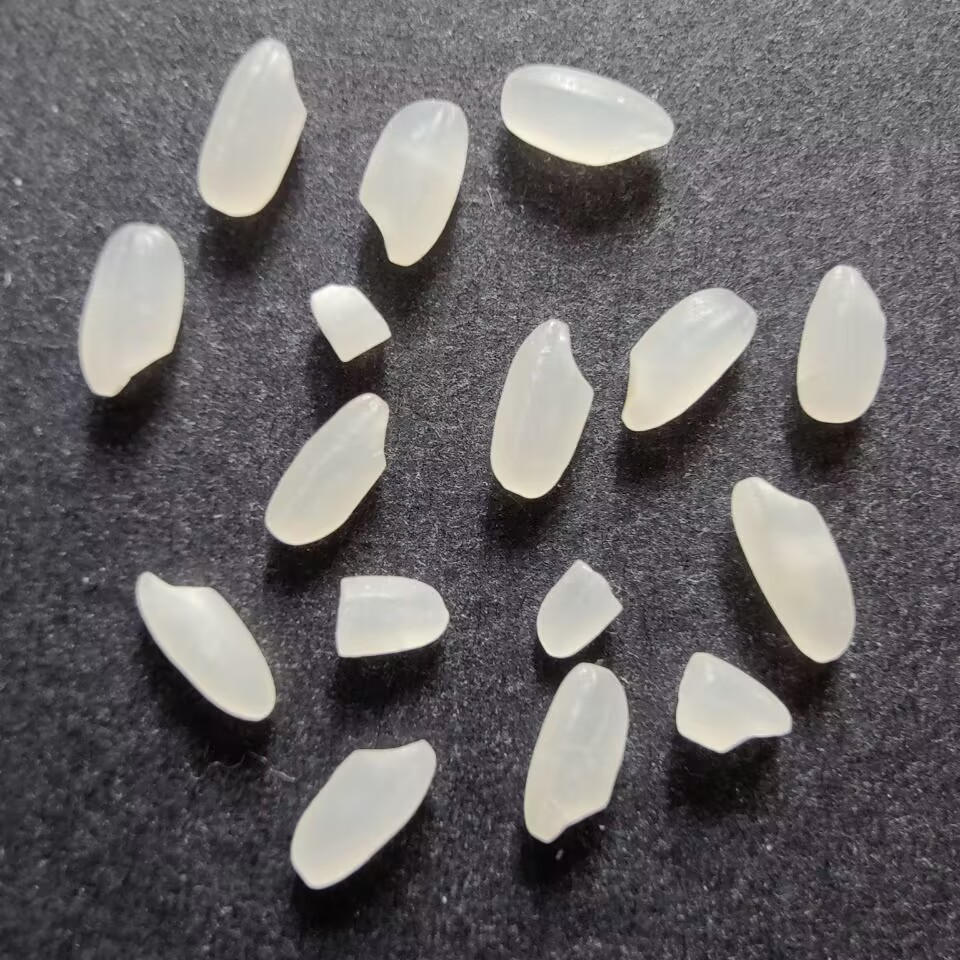broken: (668, 647, 802, 755), (330, 572, 455, 663), (533, 556, 627, 663), (303, 281, 397, 368)
rice: (726, 474, 857, 669), (283, 735, 439, 892), (126, 568, 278, 725), (619, 283, 765, 437), (192, 34, 310, 222), (354, 97, 475, 272), (262, 389, 392, 547), (521, 660, 631, 844), (495, 62, 680, 170), (487, 318, 595, 501), (80, 219, 187, 401), (793, 258, 892, 426)
